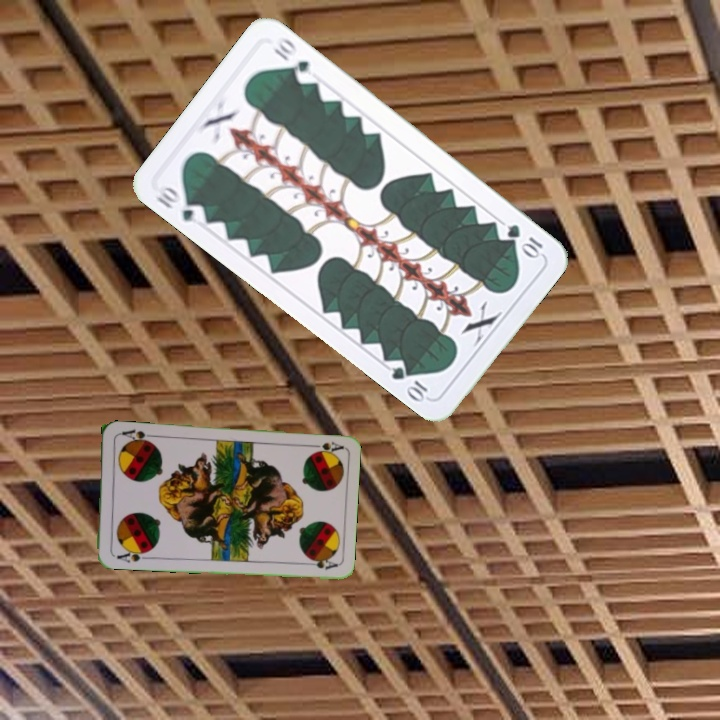G10: (152, 181, 209, 225), (503, 220, 546, 260)
SA: (113, 545, 150, 565), (304, 438, 345, 455)
